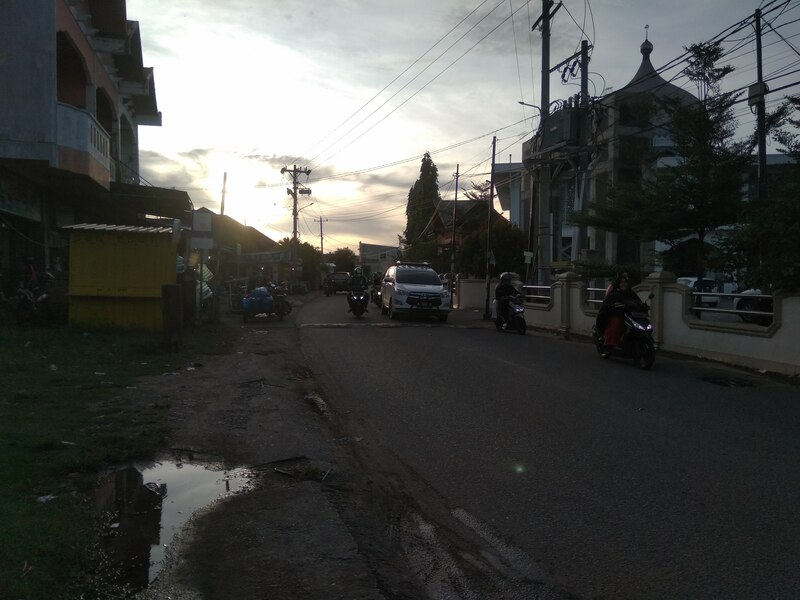becak barang: (240, 278, 300, 327)
motorcycle: (590, 291, 656, 371), (492, 292, 533, 341), (344, 283, 372, 322)
